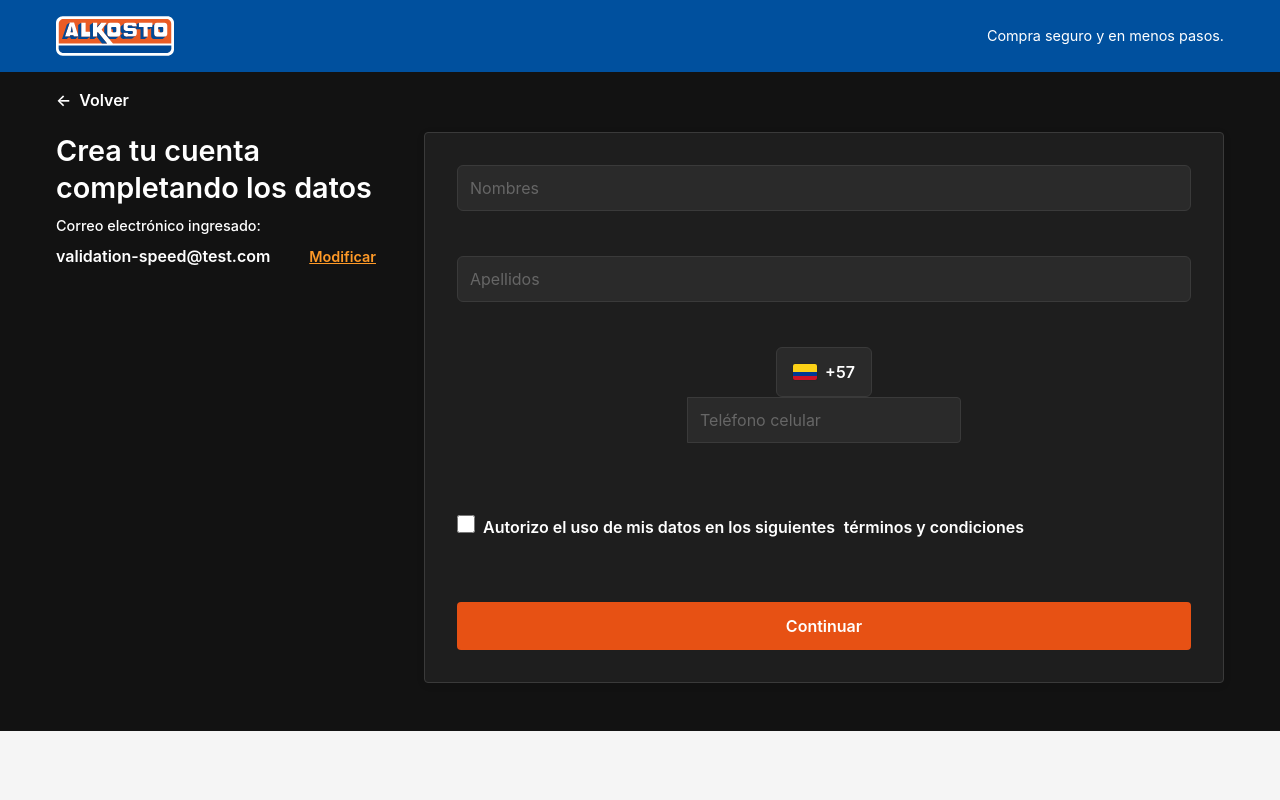
Test case: RF01 - REGISTRAR USUARIO - Pruebas E2E Completas › 10. Performance y Tiempos de Carga › 10.2 Validaciones responden instantáneamente
Type "2001234567" into the field named "phone" at (824, 420), box [687,397,961,443]
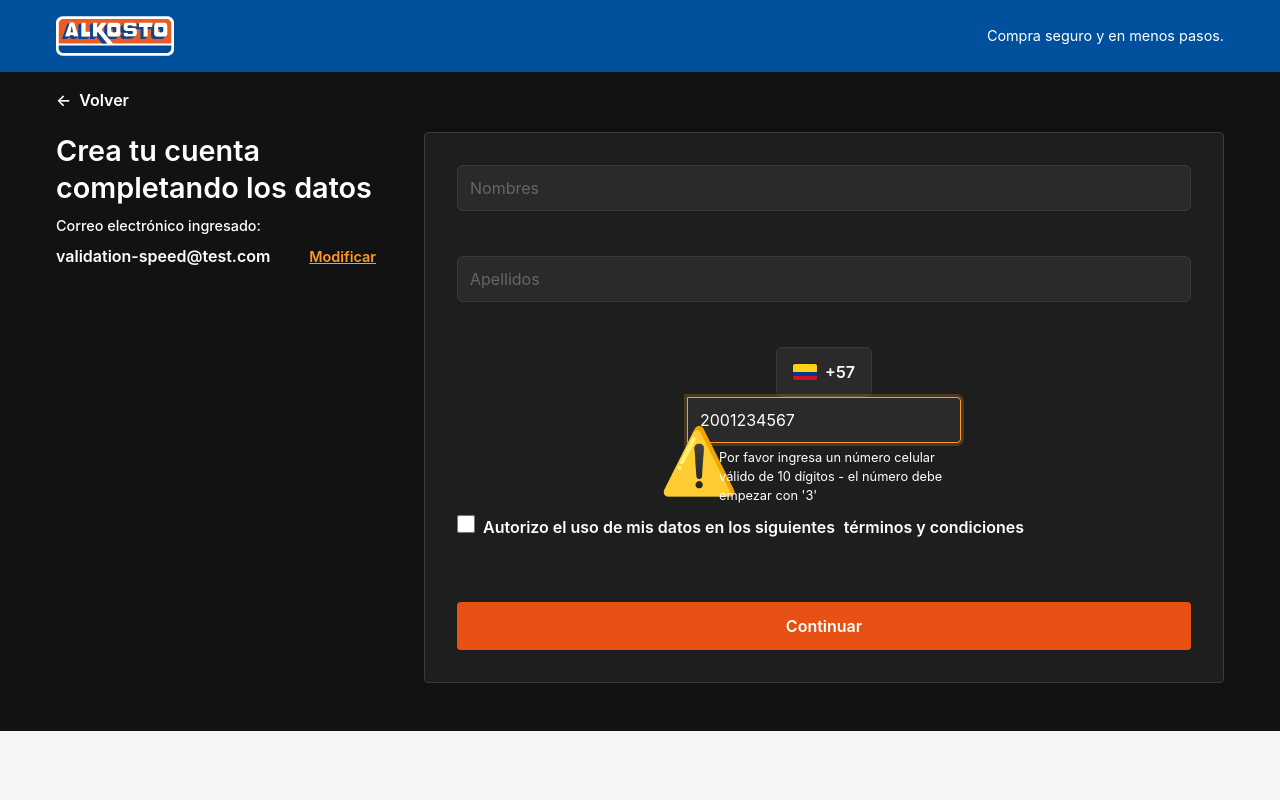
Expected: the text "el número debe empezar con '3'" is shown, [719,448,961,506]
